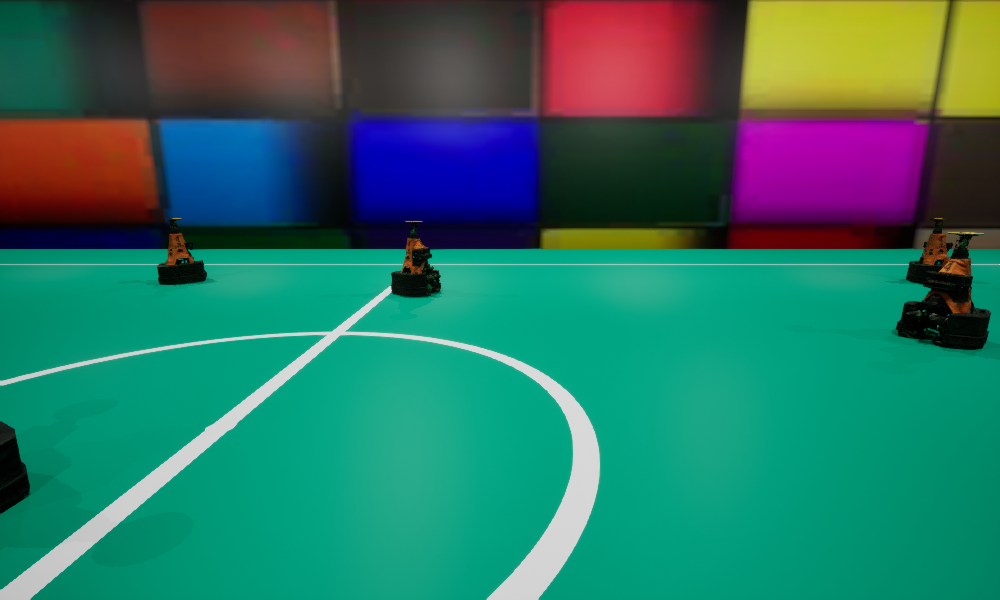0 orange robot TechUnited: (896, 232, 990, 348), (391, 221, 440, 296), (157, 218, 206, 284), (906, 218, 952, 283), (0, 421, 29, 513)
